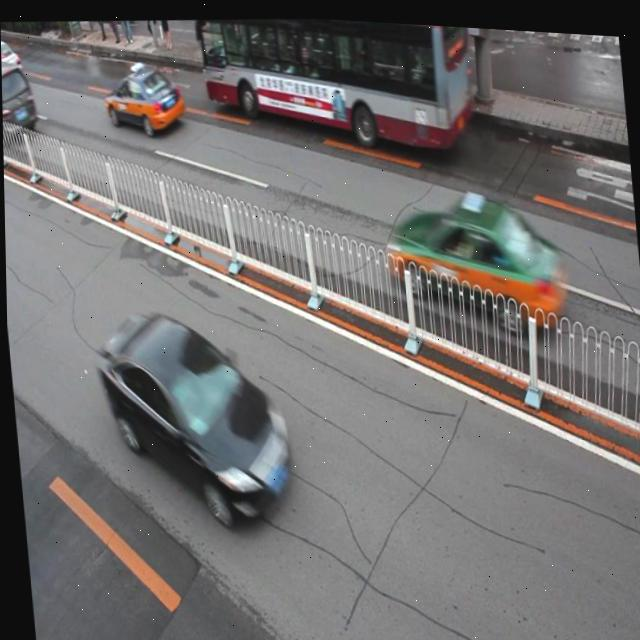car: (94, 297, 293, 529), (380, 176, 565, 334), (101, 61, 185, 138), (1, 35, 23, 83)
truck: (1, 57, 38, 143)
van: (196, 9, 472, 162)
